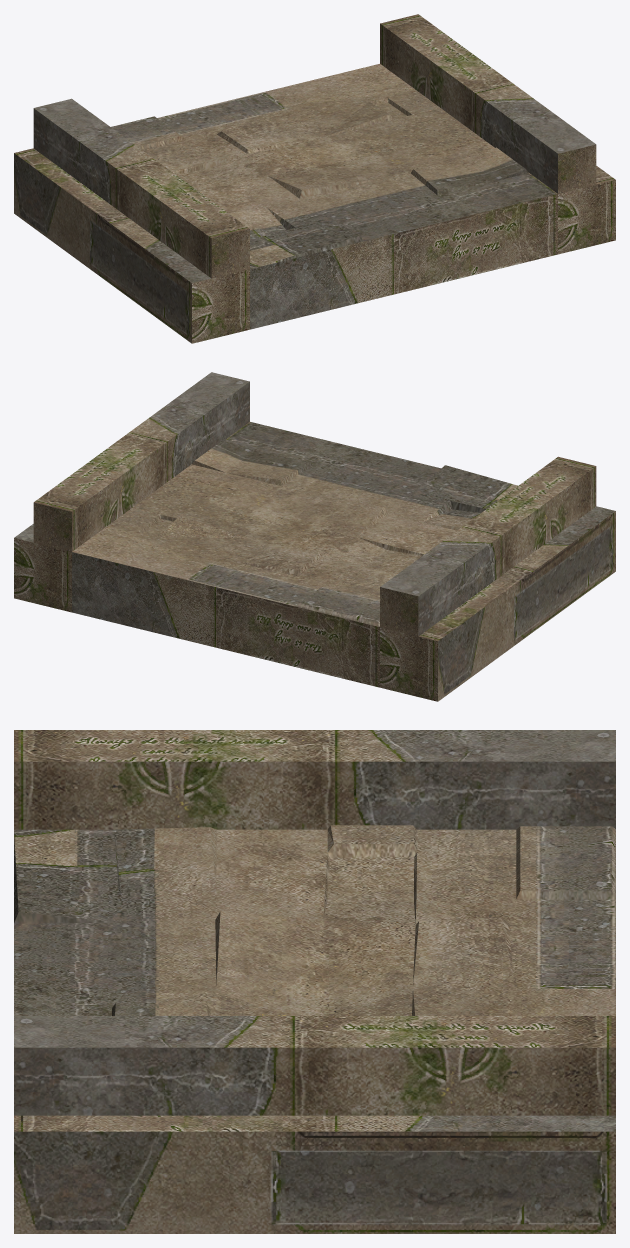
The model's file is bg_lut_lutomb_bridge01_sm_old.FBX.
The picture shows the model from 3 angles, top to bottom: view 1: azimuth 30°, elevation 25°; view 2: azimuth 150°, elevation 25°; view 3: azimuth 270°, elevation 25°; orthographic projection. The views are drawn at different scales.
Visible parts, largest first — view 1: bg_lut_lutomb_bridge01_sm_old; view 2: bg_lut_lutomb_bridge01_sm_old; view 3: bg_lut_lutomb_bridge01_sm_old.
Part boxes in pixels (<box>): bg_lut_lutomb_bridge01_sm_old: <box>14,14,615,343</box>; bg_lut_lutomb_bridge01_sm_old: <box>14,372,615,701</box>; bg_lut_lutomb_bridge01_sm_old: <box>14,730,615,1233</box>.
Size of the model in its own units: 528 by 120 by 384.
